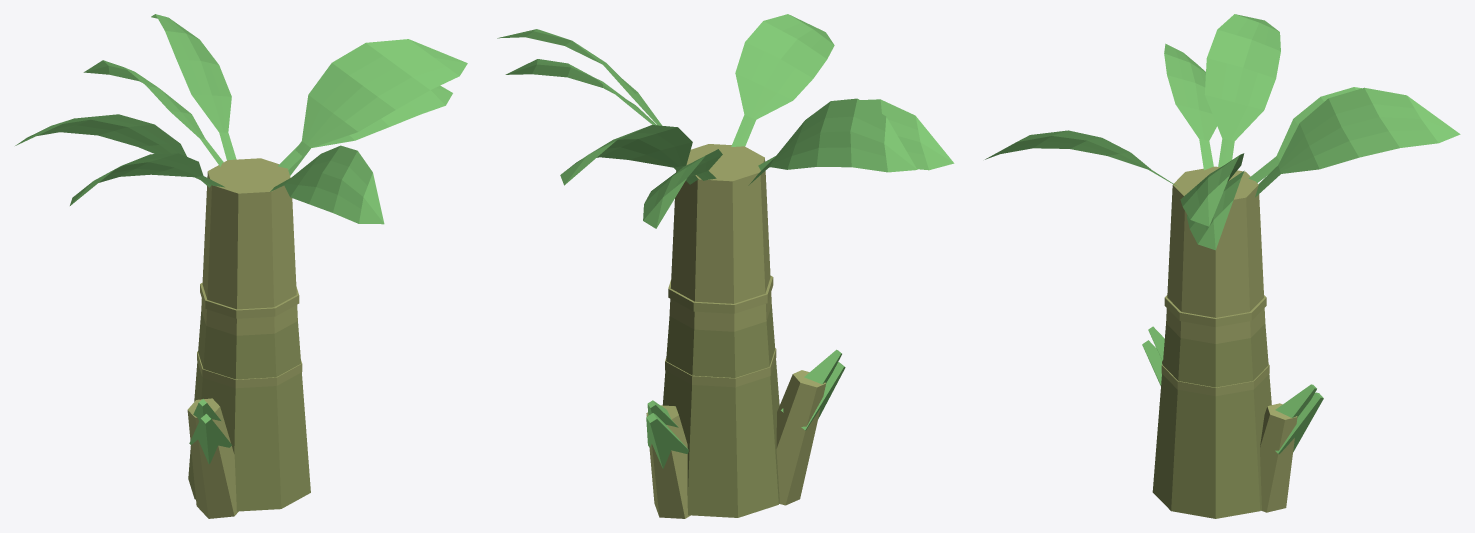
The model's file is low_poly_banana_tree.glb.
3 views of the same model, side by side, from view 1: azimuth 30°, elevation 25°; view 2: azimuth 150°, elevation 25°; view 3: azimuth 270°, elevation 25° (orthographic). The views are drawn at different scales.
Visible parts, largest first — view 1: Stalk, Leaves; view 2: Stalk, Leaves; view 3: Stalk, Leaves.
Boxes of the visible parts, left/top/right/bottom form: Stalk: left=187, top=158, right=310, bottom=518; Leaves: left=15, top=14, right=467, bottom=224; Stalk: left=646, top=144, right=845, bottom=518; Leaves: left=497, top=14, right=954, bottom=228; Stalk: left=1142, top=166, right=1323, bottom=518; Leaves: left=985, top=14, right=1460, bottom=250.
Size of the model in its own units: 2.95 by 2.71 by 2.88.
